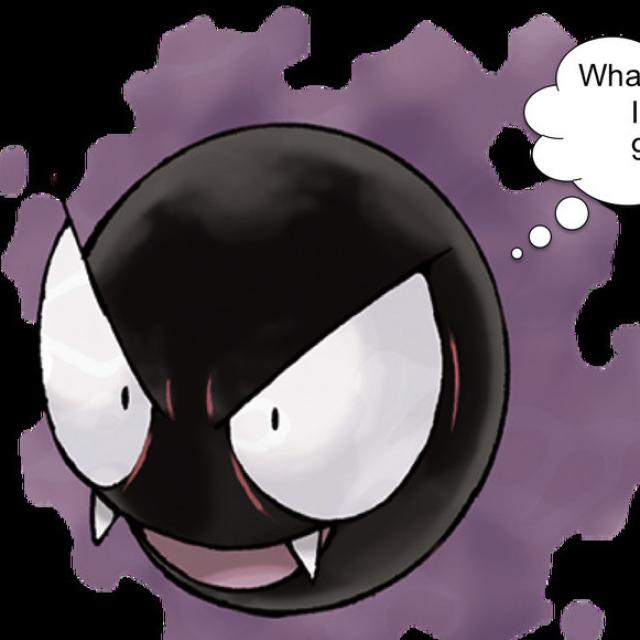Gastly: (7, 47, 532, 640)
